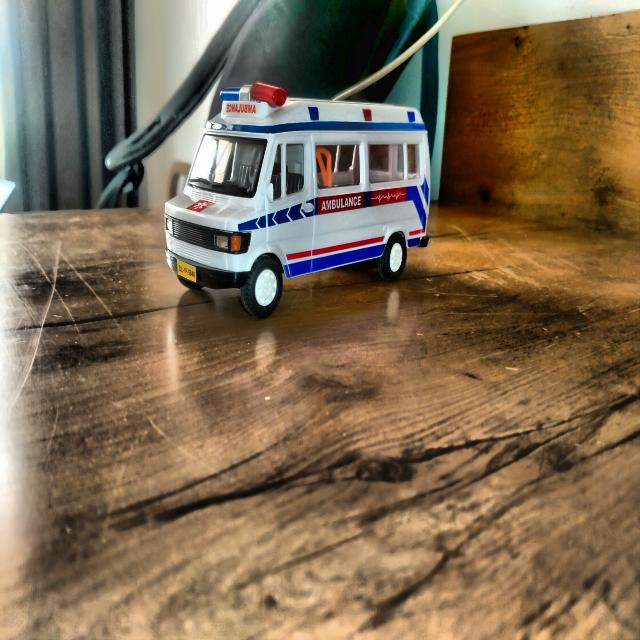Ambulance: (165, 83, 429, 318)
